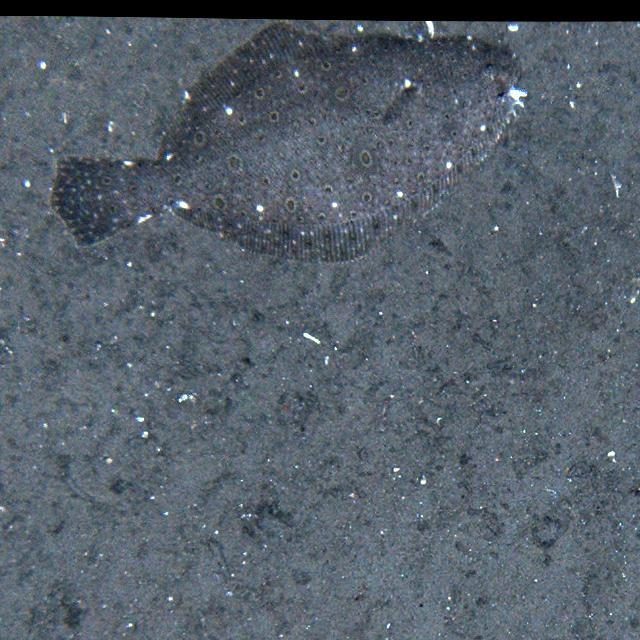flatfish: (50, 21, 526, 268)
